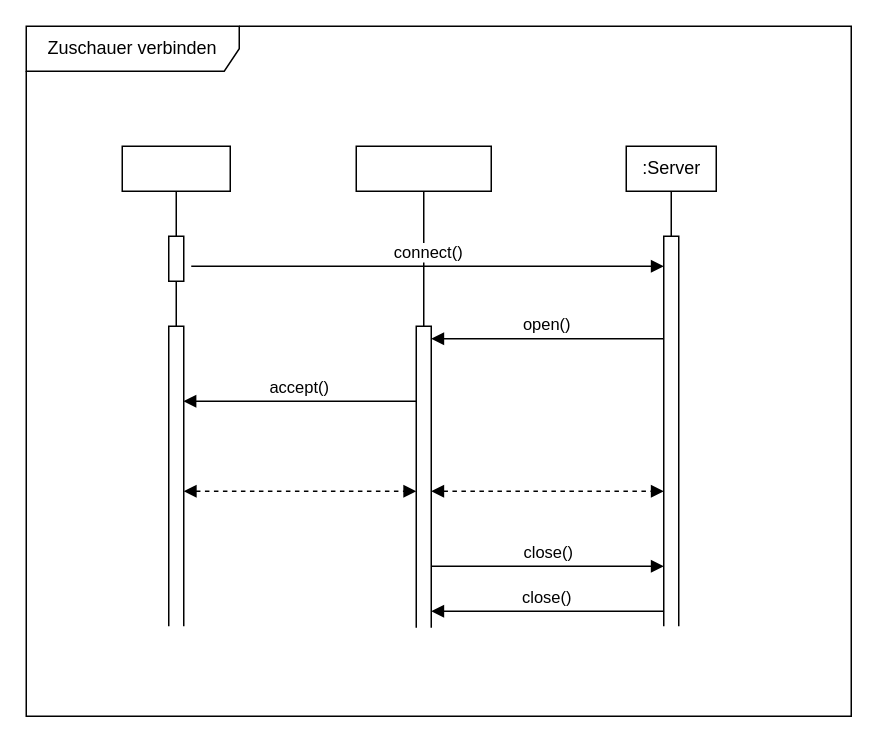
Image size: 878x743. Some labels were removed from this diagram. Here are the shapes that lost their labels. From the top down, the centre of each, then its label:
the point at 175,168: :Zuschauer
the point at 423,168: :Thread-Player
